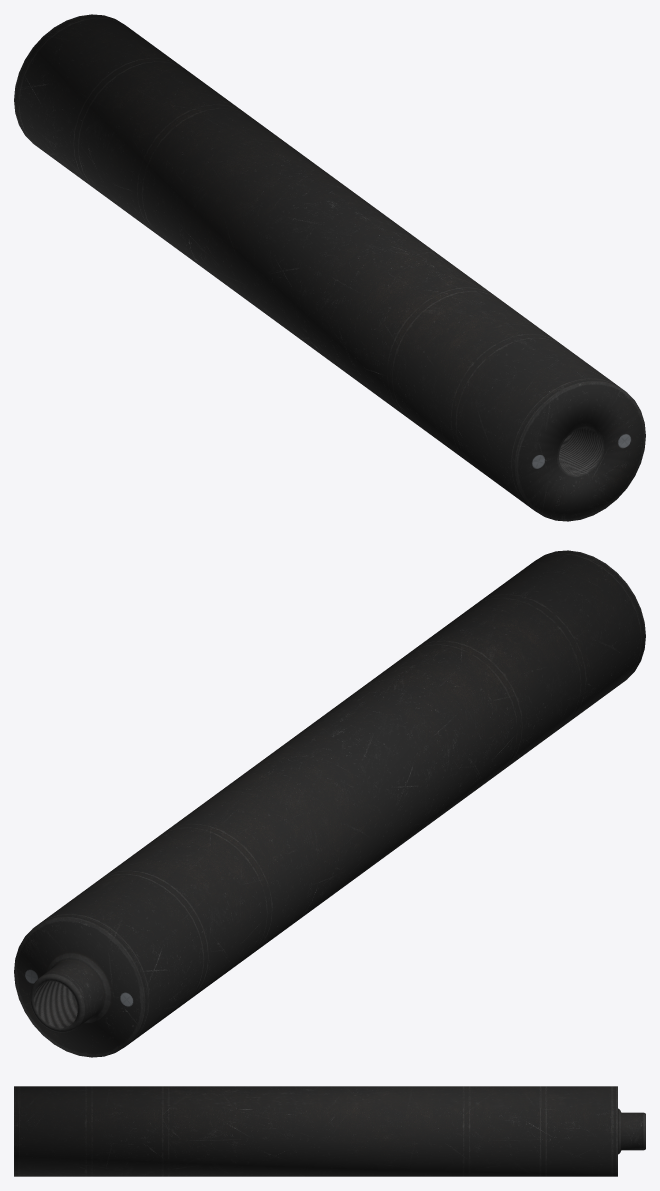
The model's file is Silencer.fbx.
3 views of the same model, one above another, from view 1: azimuth 30°, elevation 25°; view 2: azimuth 150°, elevation 25°; view 3: azimuth 270°, elevation 25° (orthographic). The views are drawn at different scales.
Visible parts, largest first — view 1: SR8_low; view 2: SR8_low; view 3: SR8_low.
Part boxes in pixels (<box>): SR8_low: <box>14,14,645,521</box>; SR8_low: <box>14,550,645,1057</box>; SR8_low: <box>14,1086,645,1176</box>.
Size of the model in its own units: 599 by 599 by 4185.
